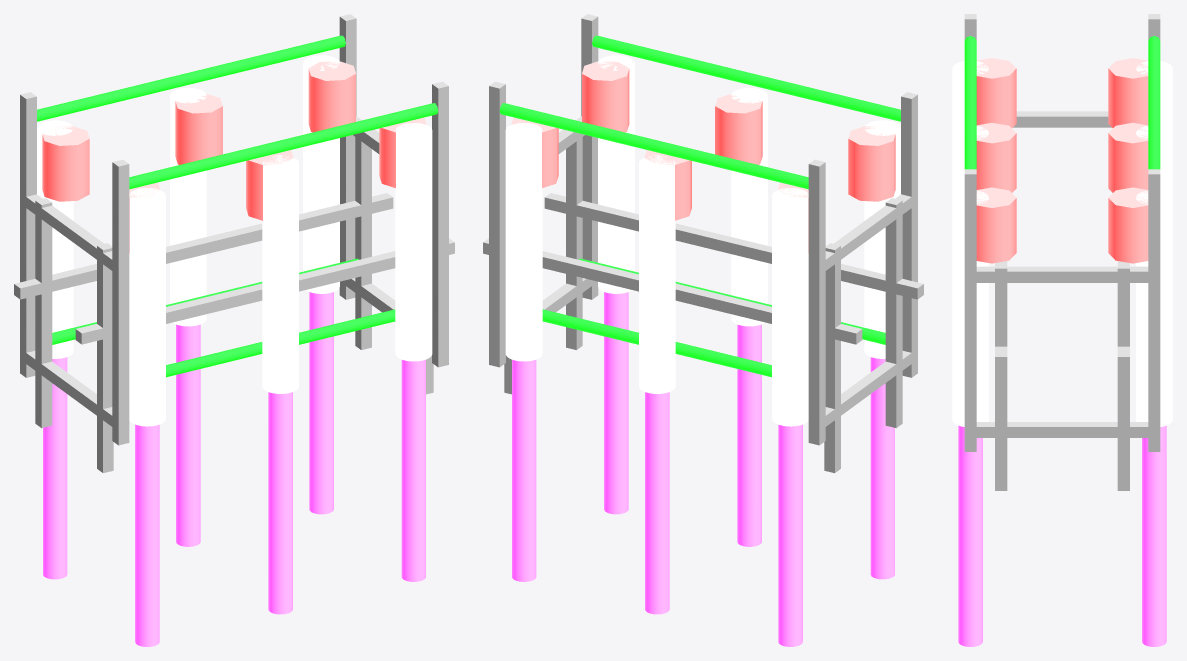
File: sixleg_model.gltf
The picture shows the model from 3 angles, left to right: view 1: azimuth 30°, elevation 25°; view 2: azimuth 150°, elevation 25°; view 3: azimuth 270°, elevation 25°; orthographic projection.
Visible parts, largest first — view 1: fix (×6), stroke (×6), motor (×5), 2_H_frame (×2), 1_H_frame (×2), 3_H_frame (×2), 1_L_frame, 2_L_frame, 3_guide, 4_guide, 4_H_frame, 2_guide (+3 smaller); view 2: fix (×6), stroke (×6), motor (×5), 1_H_frame (×2), 2_H_frame (×2), 4_H_frame (×2), 2_L_frame, 1_L_frame, 4_guide, 3_guide, 3_H_frame, 1_guide (+3 smaller); view 3: motor (×6), fix (×6), stroke (×2), 5_H_frame (×2), 2_H_frame, 1_H_frame, 6_H_frame, 4_H_frame, 3_H_frame, 3_guide, 4_guide.
Part boxes in pixels (x1,y1,x2,y2): fix (×6): (37, 55, 432, 426); stroke (×6): (43, 292, 425, 646); motor (×5): (42, 61, 426, 220); 2_H_frame (×2): (112, 81, 448, 445); 1_H_frame (×2): (20, 14, 356, 377); 3_H_frame (×2): (35, 133, 371, 428); 1_L_frame: (14, 193, 393, 299); 2_L_frame: (75, 238, 454, 344); 3_guide: (129, 103, 438, 189); 4_guide: (37, 35, 345, 121); 4_H_frame: (97, 243, 113, 473); 2_guide: (166, 309, 395, 377); fix (×6): (505, 55, 900, 426); stroke (×6): (512, 292, 894, 646); motor (×5): (511, 61, 895, 220); 1_H_frame (×2): (489, 81, 825, 445); 2_H_frame (×2): (581, 14, 917, 377); 4_H_frame (×2): (566, 133, 902, 428); 2_L_frame: (544, 193, 923, 299); 1_L_frame: (483, 238, 862, 344); 4_guide: (499, 103, 808, 189); 3_guide: (592, 35, 900, 121); 3_H_frame: (824, 243, 840, 473); 1_guide: (542, 309, 771, 377); motor (×6): (976, 58, 1148, 263); fix (×6): (952, 61, 1172, 426); stroke (×2): (958, 425, 1166, 646); 5_H_frame (×2): (970, 111, 1154, 282); 2_H_frame: (964, 169, 976, 451); 1_H_frame: (1148, 169, 1160, 451); 6_H_frame: (970, 422, 1154, 437); 4_H_frame: (995, 263, 1007, 490); 3_H_frame: (1117, 263, 1129, 490); 3_guide: (964, 36, 976, 169); 4_guide: (1148, 36, 1160, 169).
Size of the model in its own units: 7 by 8.7 by 3.6.
